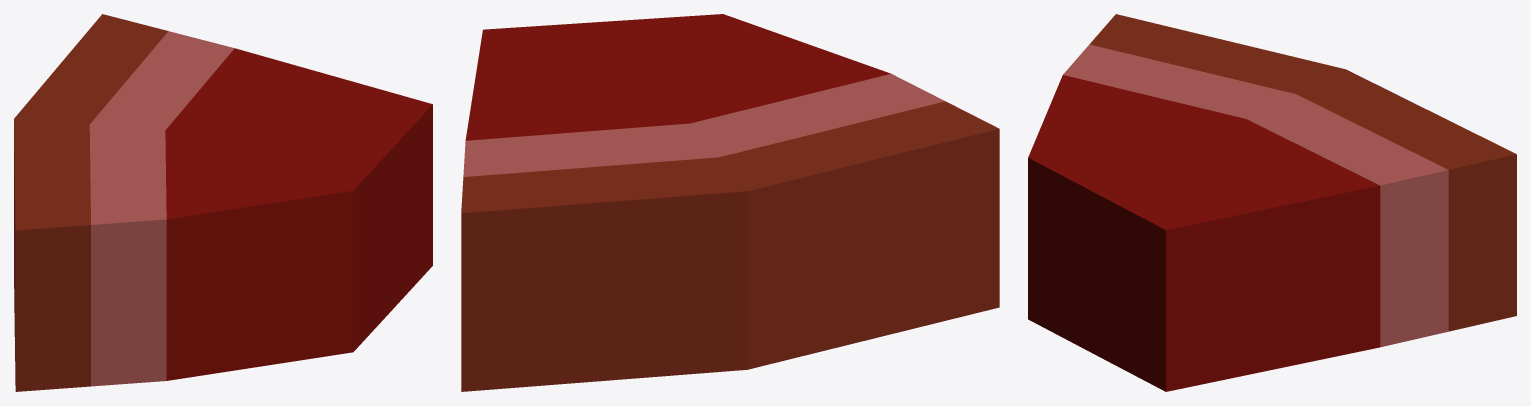
File: Steak_Piece2.FBX
The picture shows the model from 3 angles, left to right: view 1: azimuth 30°, elevation 25°; view 2: azimuth 150°, elevation 25°; view 3: azimuth 270°, elevation 25°; orthographic projection. The views are drawn at different scales.
Parts seen in each view (by area): view 1: Steak_Piece2; view 2: Steak_Piece2; view 3: Steak_Piece2.
Boxes of the visible parts, left/top/right/bottom form: Steak_Piece2: left=14, top=14, right=432, bottom=391; Steak_Piece2: left=461, top=14, right=999, bottom=391; Steak_Piece2: left=1028, top=14, right=1516, bottom=391.
Size of the model in its own units: 1001 by 956 by 349.
